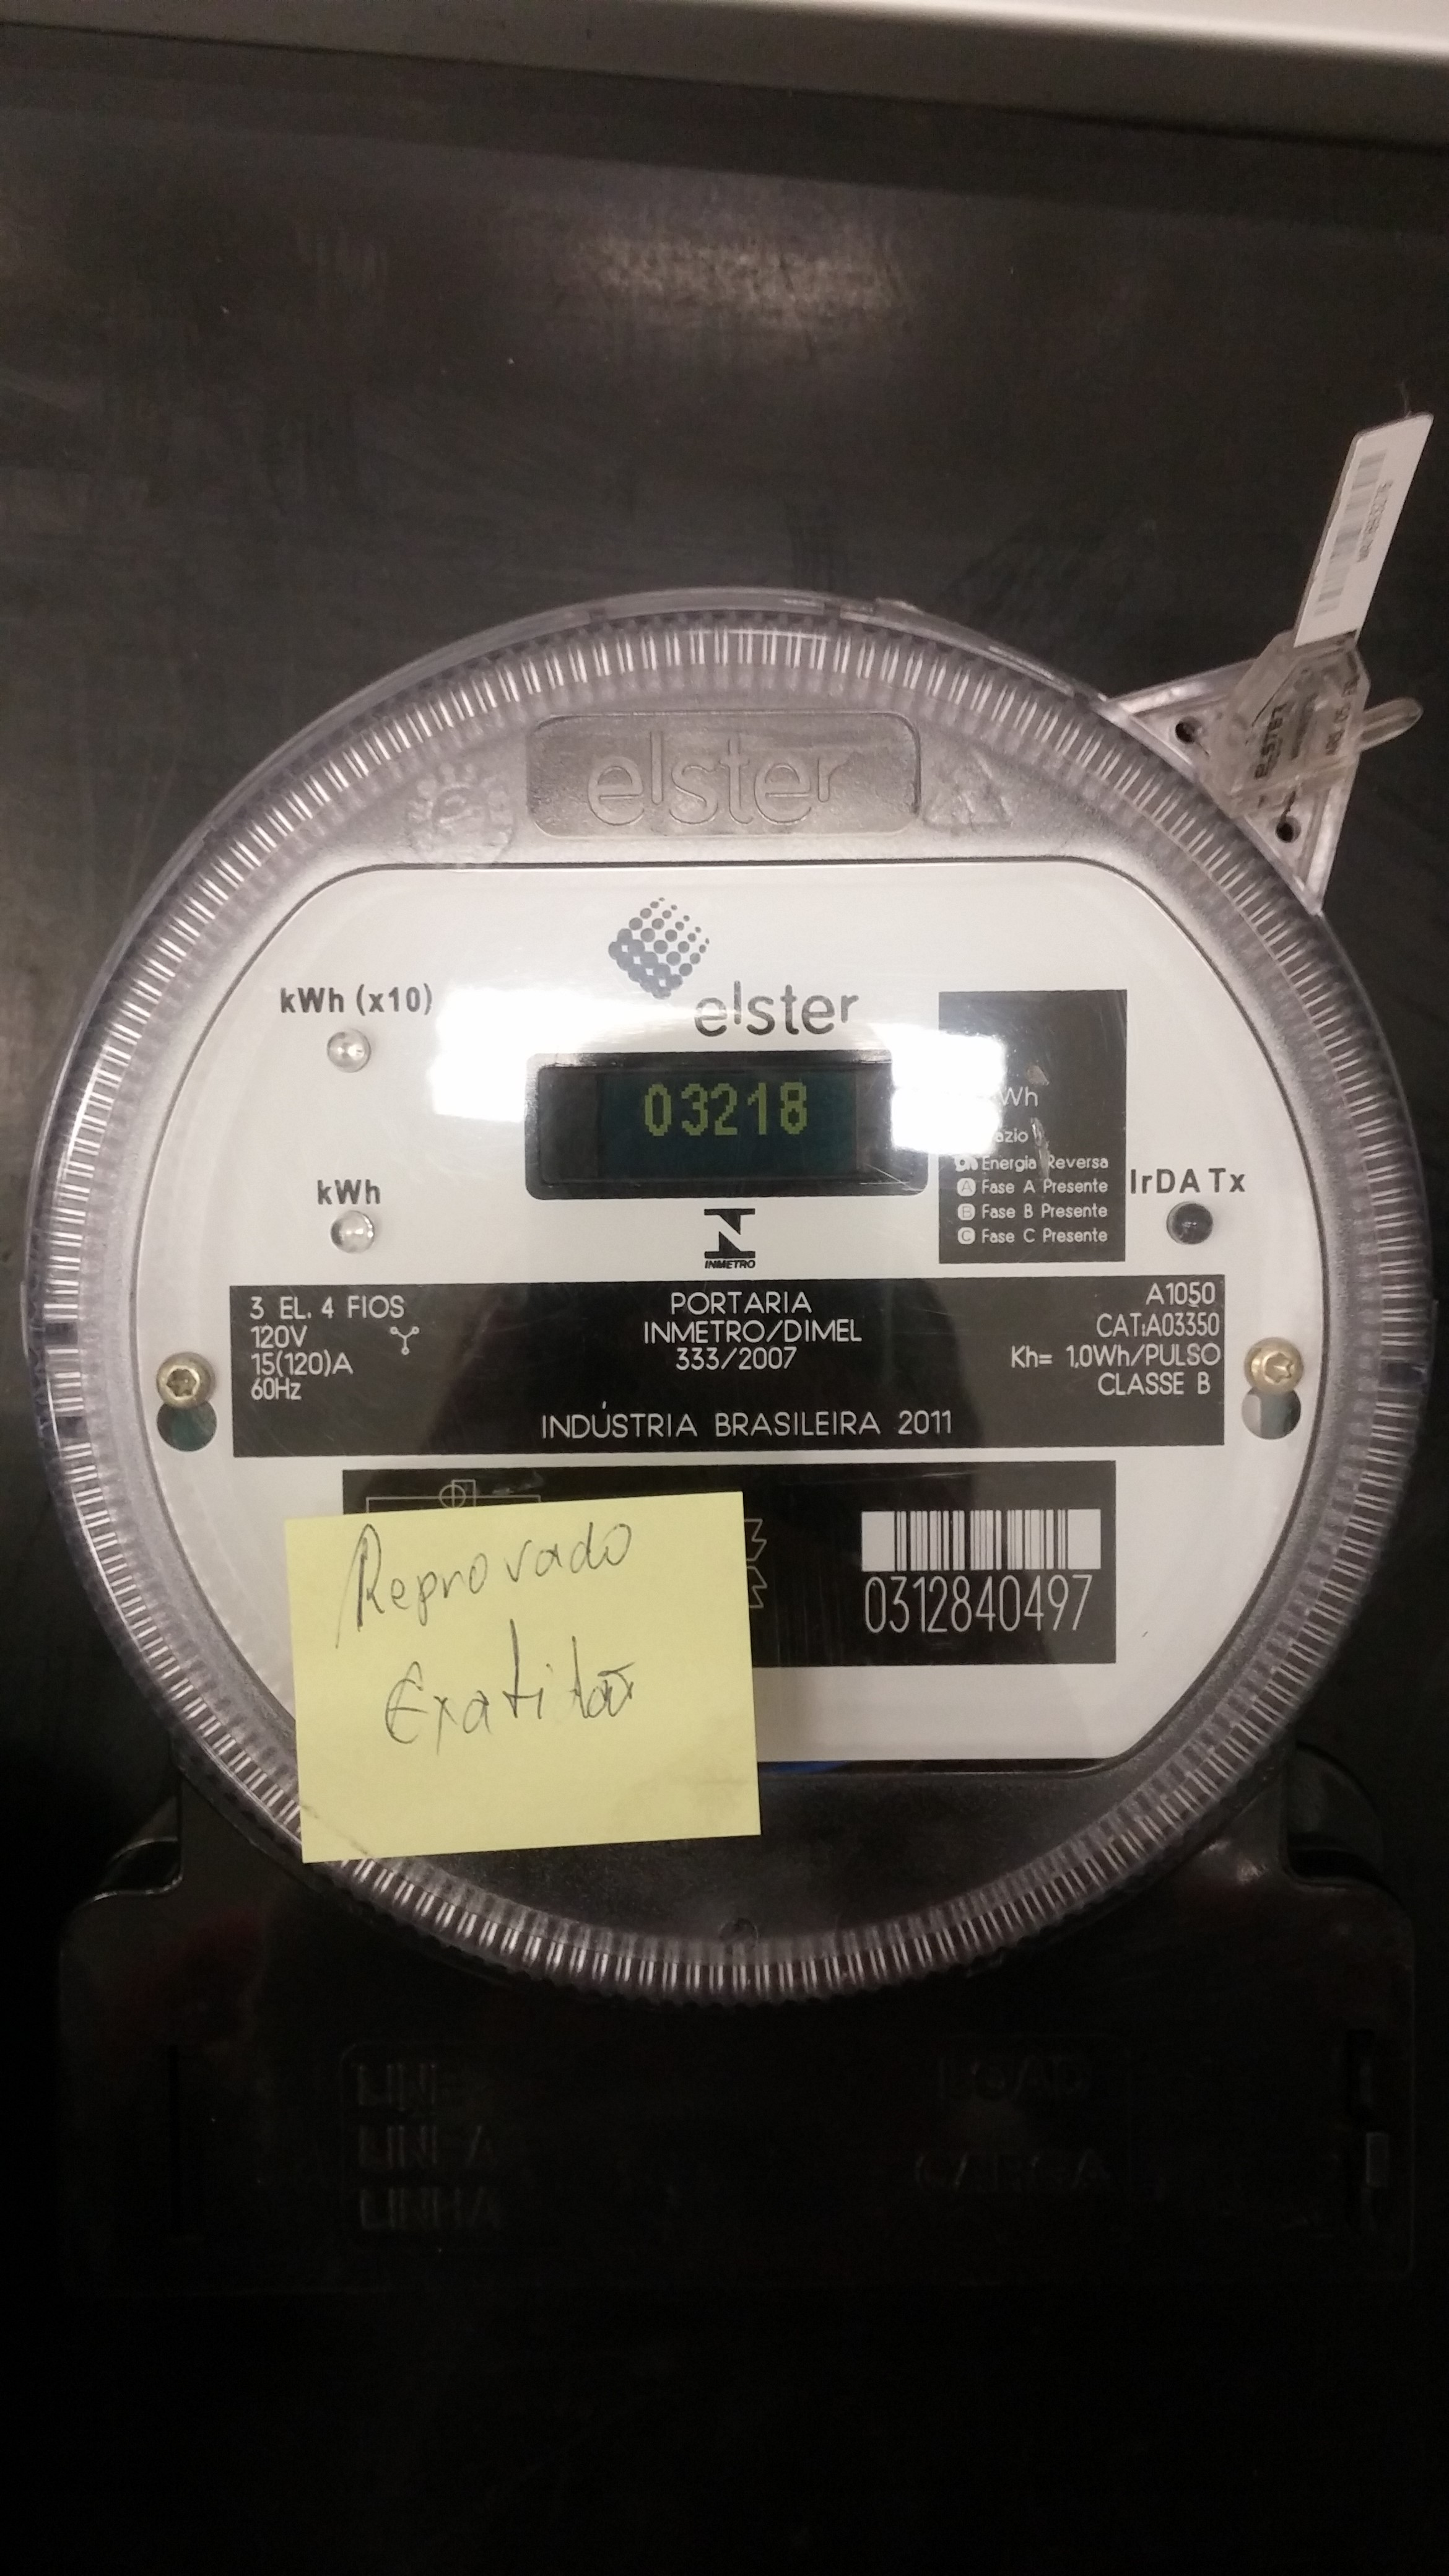counter: (566, 1056, 863, 1180)
